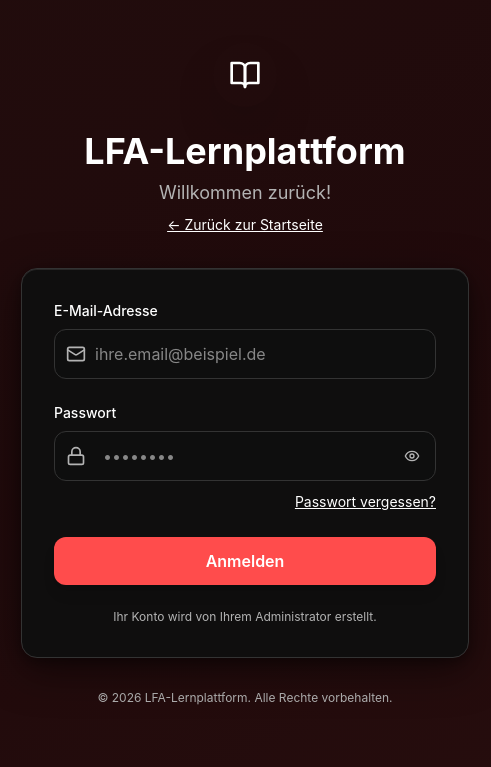
Test: LoginForm reasons and blocked sign ins › a sign in that is stopped › shows the translated message of deactivated
Type "azubi@example.com" into the field labelled "E-Mail-Adresse".
click(245, 354); type("azubi@example.com")  # box [54,328,436,378]
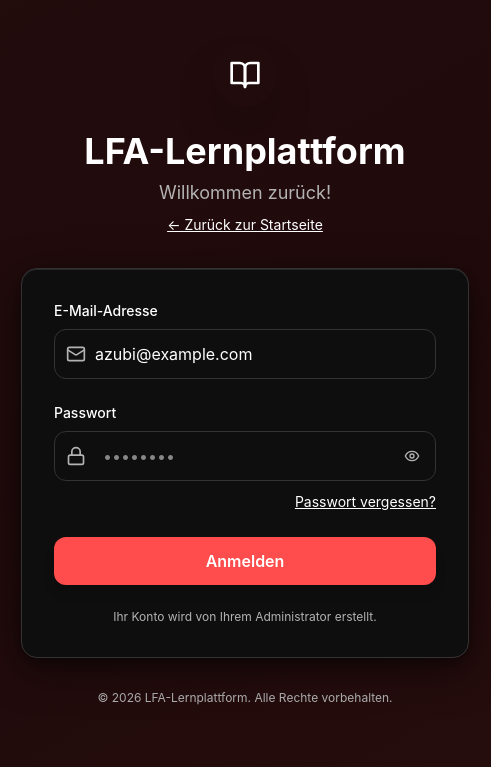
Type "geheim" into the password field labelled "Passwort".
click(245, 456); type("geheim")  # box [54,430,436,480]
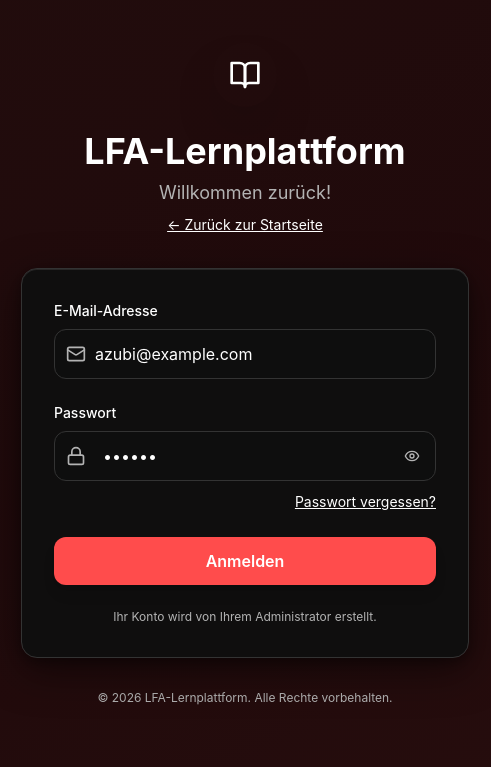
Click the button "Anmelden".
click(245, 560)  # box [54,536,436,584]
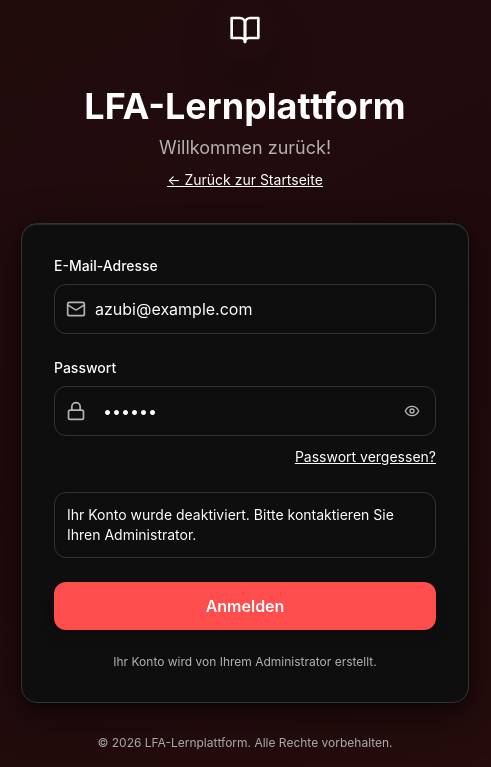
Expected: the message reads "Ihr Konto wurde deaktiviert. Bitte kontaktieren Sie Ihren Administrator.", [67,506,394,542]
